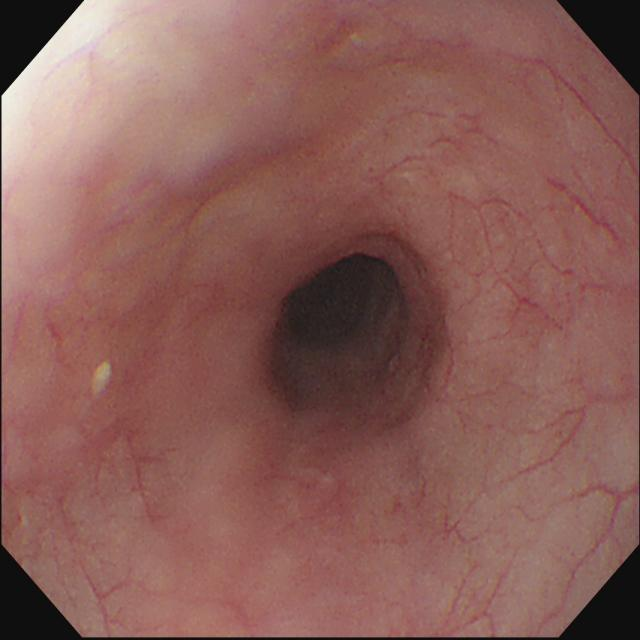A: (382, 323, 453, 425)
E: (291, 253, 397, 347)
